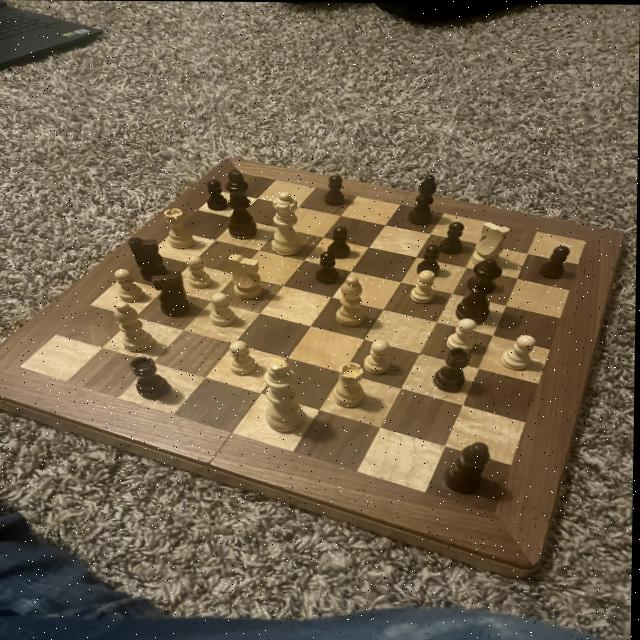bishop: (439, 439, 498, 497), (406, 172, 444, 226)
black-bishop: (222, 165, 261, 242)
black-king: (150, 268, 197, 319), (126, 235, 171, 283)
black-knight: (537, 244, 576, 282), (324, 223, 357, 260), (413, 242, 447, 277), (202, 176, 230, 213), (440, 219, 468, 256), (322, 173, 351, 206), (316, 251, 342, 287)
black-pawn: (453, 255, 504, 327)
black-queen: (125, 354, 175, 402), (432, 346, 476, 396)
black-rook: (113, 299, 162, 356), (332, 271, 374, 330)
white-bishop: (264, 359, 309, 437)
white-king: (470, 217, 513, 272), (225, 252, 272, 301)
white-knight: (442, 315, 483, 355), (111, 265, 151, 306), (501, 333, 542, 371), (360, 337, 397, 374), (208, 289, 239, 330), (182, 253, 215, 291), (229, 340, 261, 376), (407, 270, 440, 303)
white-pawn: (269, 189, 306, 257)
white-queen: (165, 206, 200, 255), (335, 362, 370, 411)
